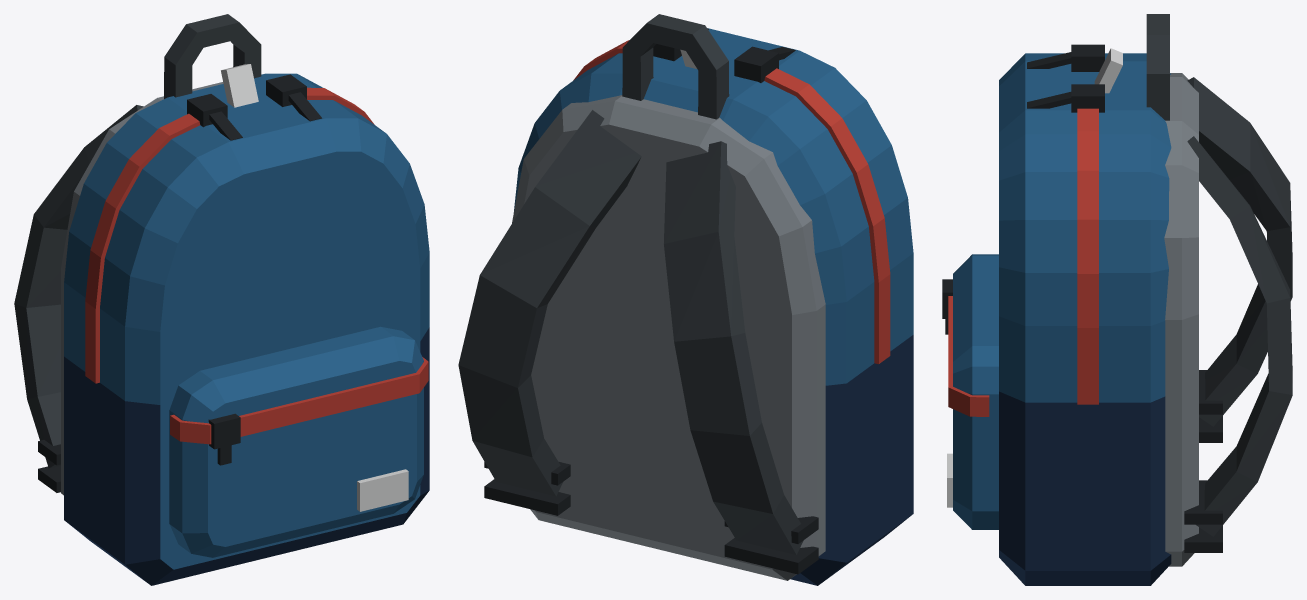
File: pupil-backpack-d9b5fb.glb
3 renders of one model, left to right at view 1: azimuth 30°, elevation 25°; view 2: azimuth 150°, elevation 25°; view 3: azimuth 270°, elevation 25°, orthographic. The views are drawn at different scales.
Parts seen in each view (by area): view 1: pupil-backpack, strap-l; view 2: pupil-backpack, strap-l, strap-r; view 3: pupil-backpack, strap-r, strap-l.
Part boxes in pixels (x1,y1,x2,y2): pupil-backpack: [61, 14, 429, 585]; strap-l: [14, 105, 143, 492]; pupil-backpack: [512, 14, 913, 585]; strap-l: [664, 141, 818, 574]; strap-r: [458, 110, 641, 515]; pupil-backpack: [942, 14, 1198, 585]; strap-r: [1184, 136, 1292, 552]; strap-l: [1187, 77, 1292, 442].
Bounding box in the file's own units: 0.308 × 0.4561 × 0.2908.
